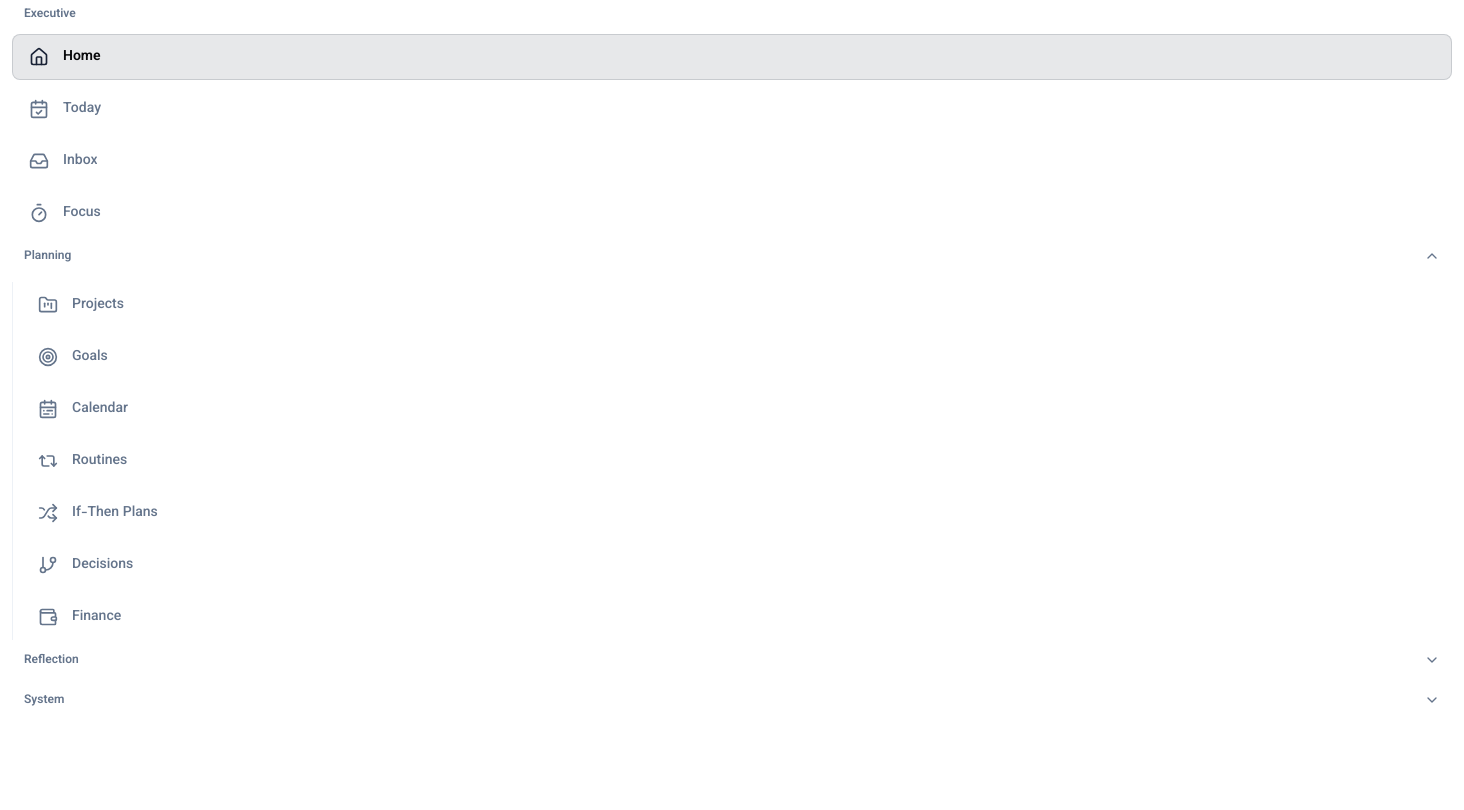
Test case: navigation groups › toggles planning destinations without changing executive destinations
The width and height of the screenshot is (1464, 810).
Click the button "Planning": (48, 256) [12, 236, 1452, 276]
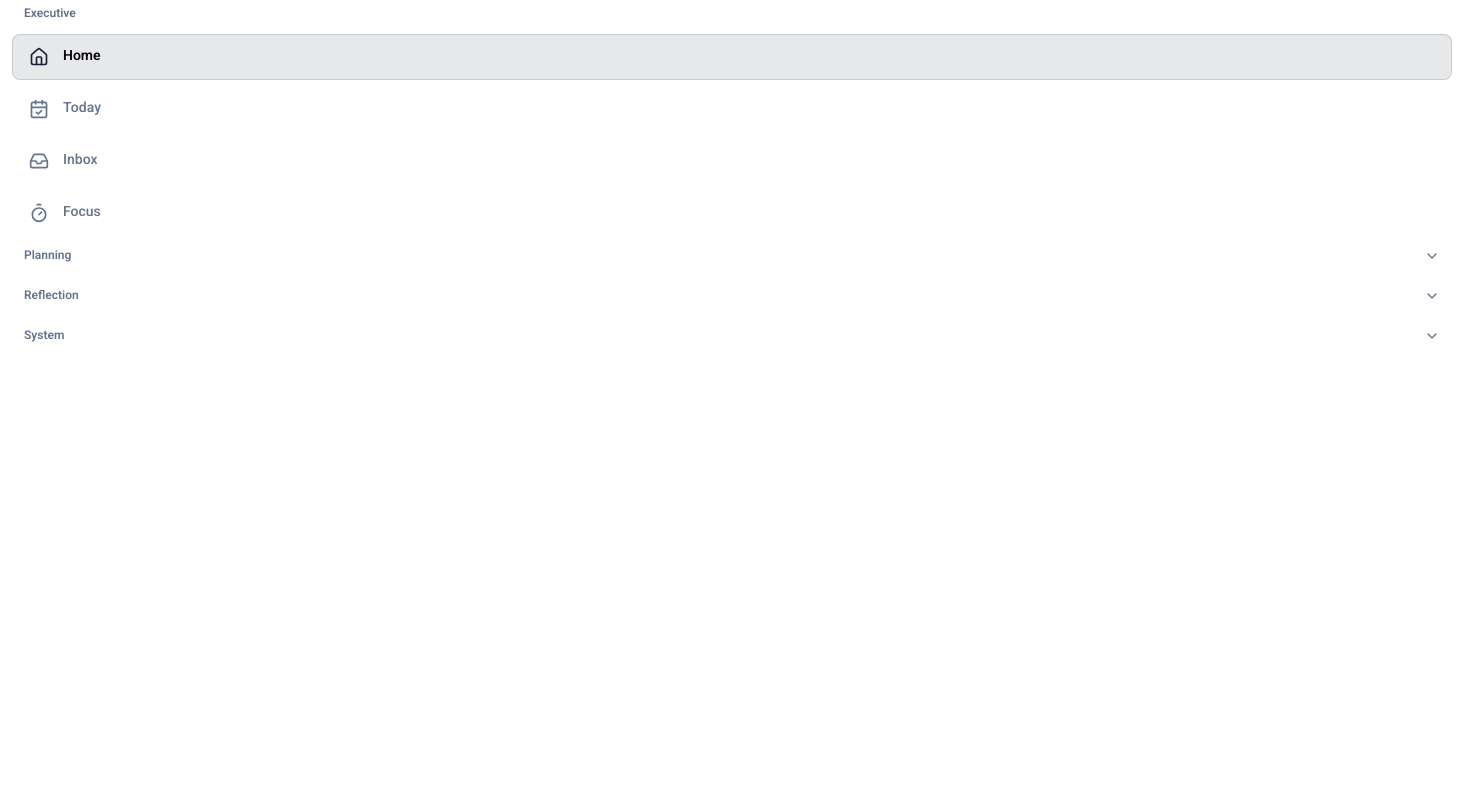
Now the button "Planning" is collapsed, box [12, 236, 1452, 276]
Now the link to "/goals" is gone
Now the link to "/finance" is gone
